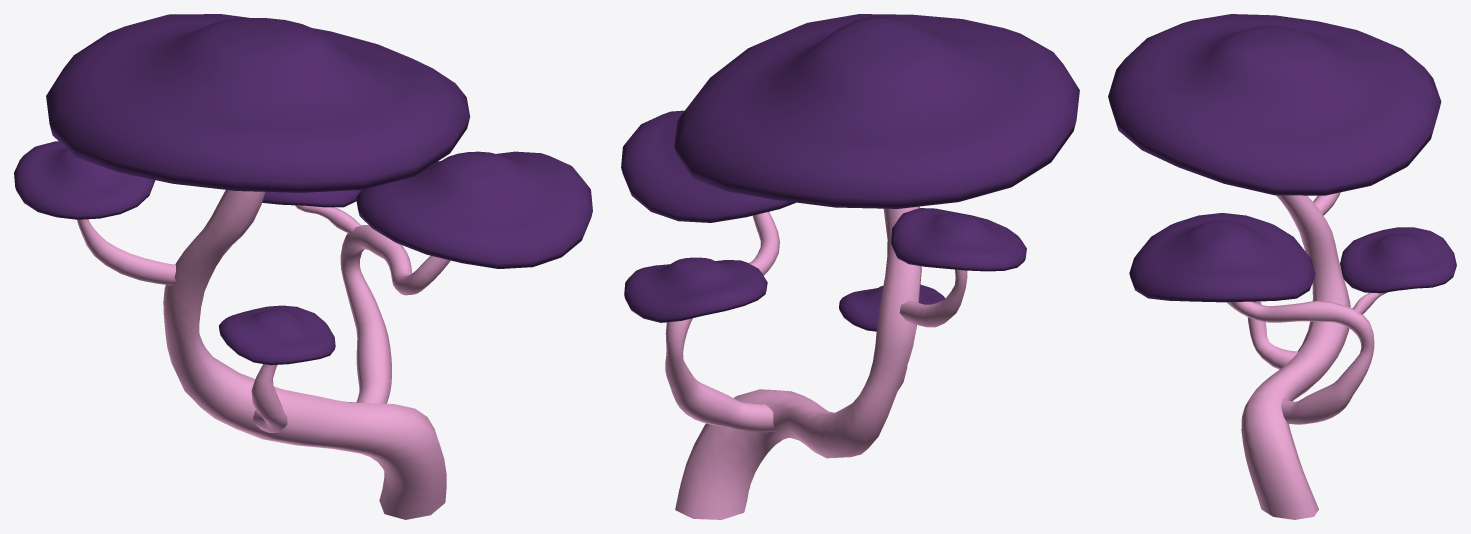
The model's file is pohon aneh.fbx.
3 renders of one model, left to right at view 1: azimuth 30°, elevation 25°; view 2: azimuth 150°, elevation 25°; view 3: azimuth 270°, elevation 25°, orthographic. The views are drawn at different scales.
Visible parts, largest first — view 1: pohon aneh; view 2: pohon aneh; view 3: pohon aneh.
Boxes of the visible parts, box(x1,y1,x2,y2) form: pohon aneh: box(14, 14, 592, 519); pohon aneh: box(621, 14, 1079, 519); pohon aneh: box(1108, 14, 1456, 519).
Bounding box in the file's own units: 8003 × 8370 × 6483.
